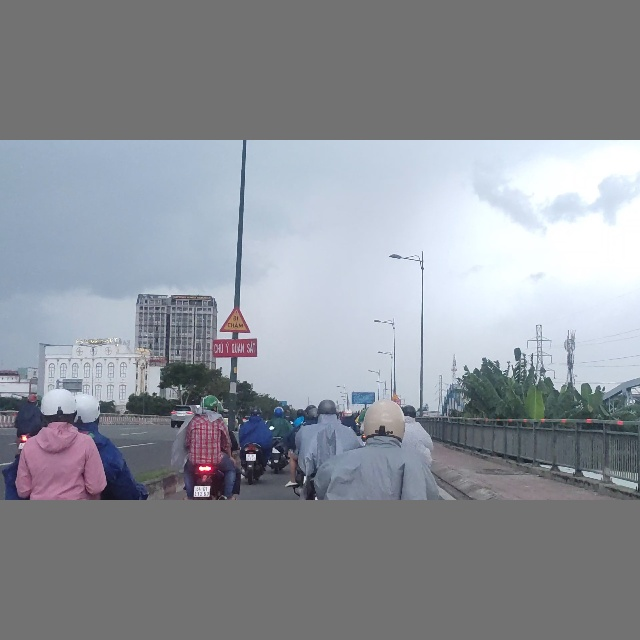W.245a: (219, 305, 251, 333)
